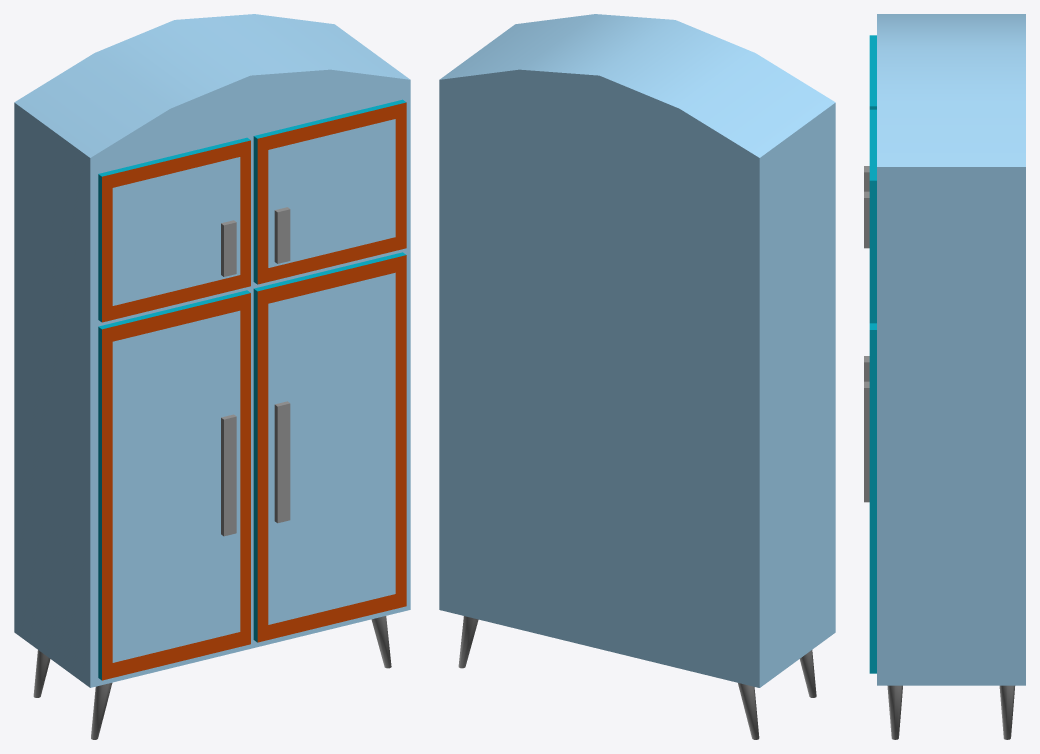
The model's file is ArmarioRoupeiro.fbx.
The picture shows the model from 3 angles, left to right: view 1: azimuth 30°, elevation 25°; view 2: azimuth 150°, elevation 25°; view 3: azimuth 270°, elevation 25°; orthographic projection. The views are drawn at different scales.
Parts seen in each view (by area): view 1: ArmarioRoupeiro; view 2: ArmarioRoupeiro; view 3: ArmarioRoupeiro.
Boxes of the visible parts, left/top/right/bottom form: ArmarioRoupeiro: left=14, top=14, right=410, bottom=739; ArmarioRoupeiro: left=439, top=14, right=835, bottom=739; ArmarioRoupeiro: left=864, top=14, right=1025, bottom=739.
Size of the model in its own units: 100 by 189 by 44.69.
